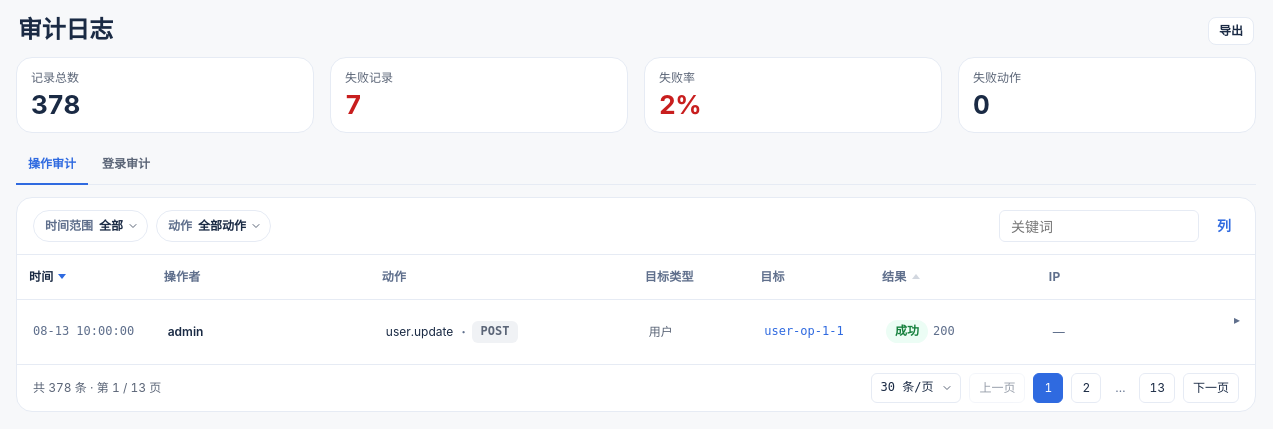
Test case: AuditLogs 传统分页（方案 A） › tab 切换（登录审计）：回第 1 页 & scope=login & 列表替换
Click the button "下一页" at (1211, 388), box 1183,373 -> 1239,403
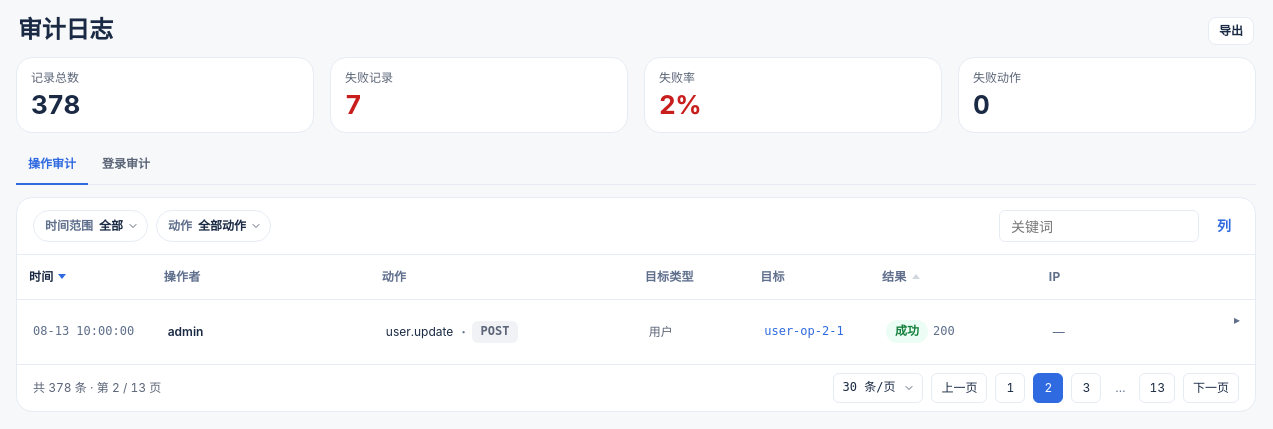
// 2026-10-01 设计语言对齐：视图切换由胶囊改原型 .tabs 下划线页签，按 .tab 定位
Click the tab with class "tab" showing "登录审计" at (126, 165), box 90,145 -> 162,185
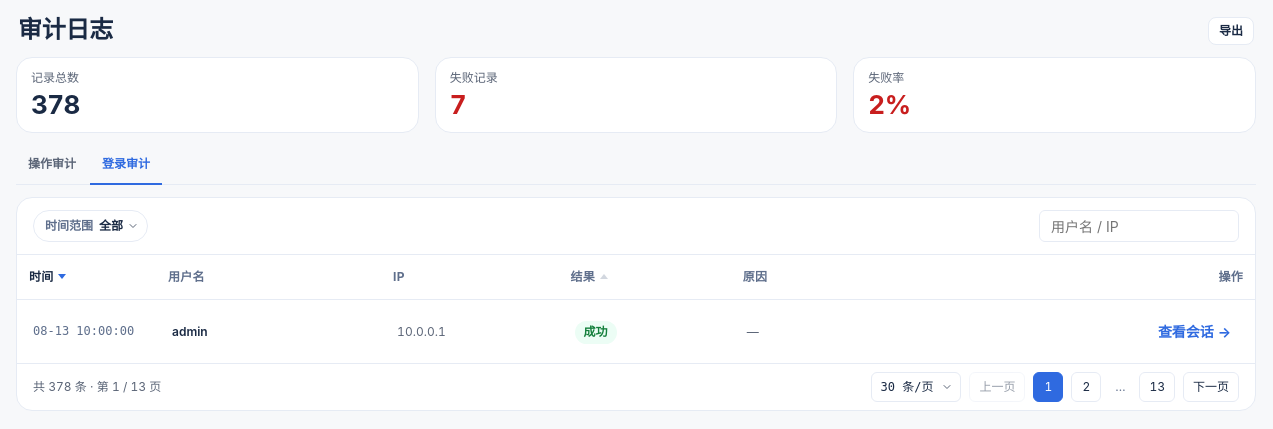
Now the text "10.0.0.1" is shown, box 397,324 -> 446,339
